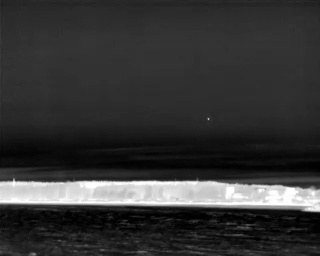HELICOPTER: (205, 114, 213, 124)
